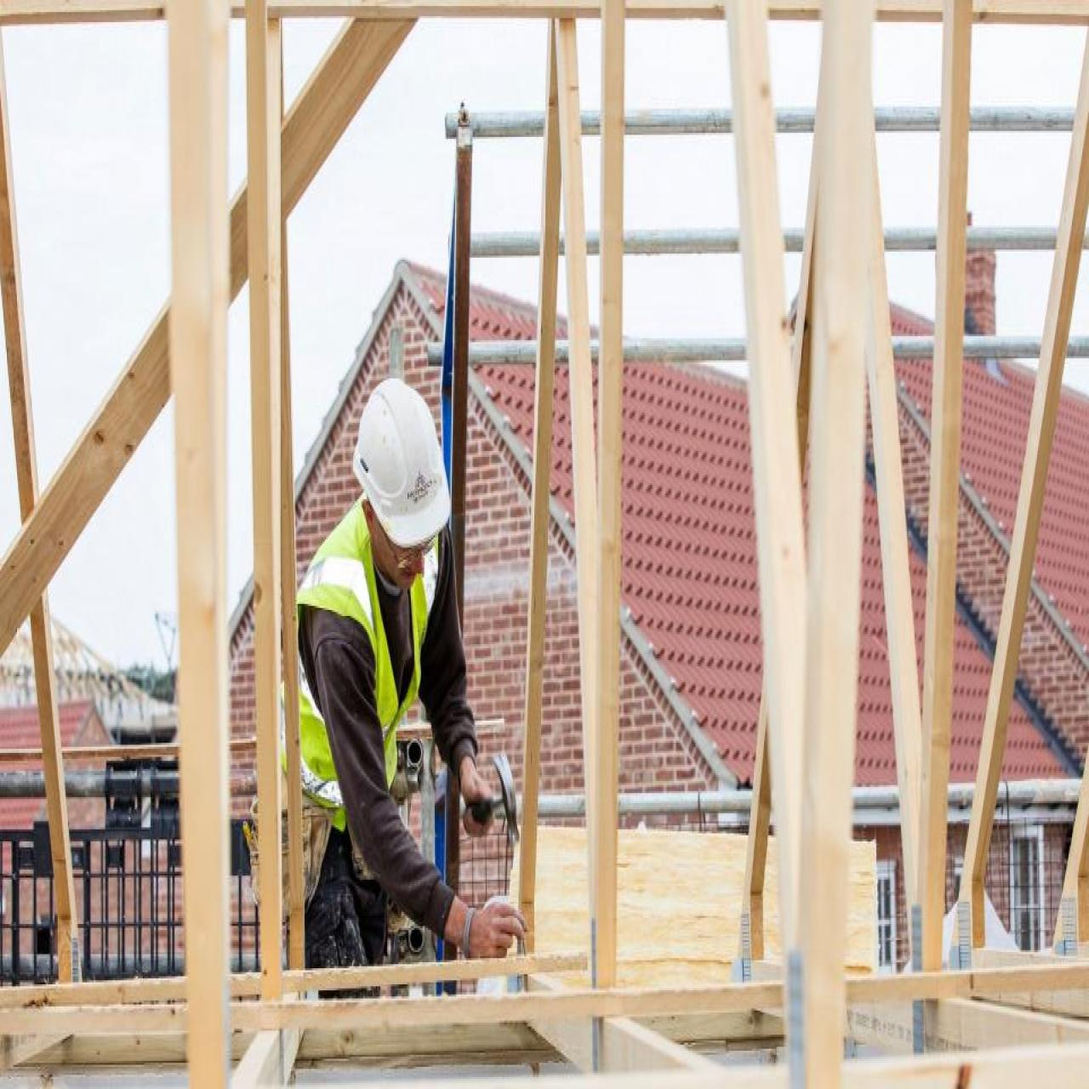Person: (272, 364, 539, 1013)
Safety_Vest: (282, 501, 450, 841)
